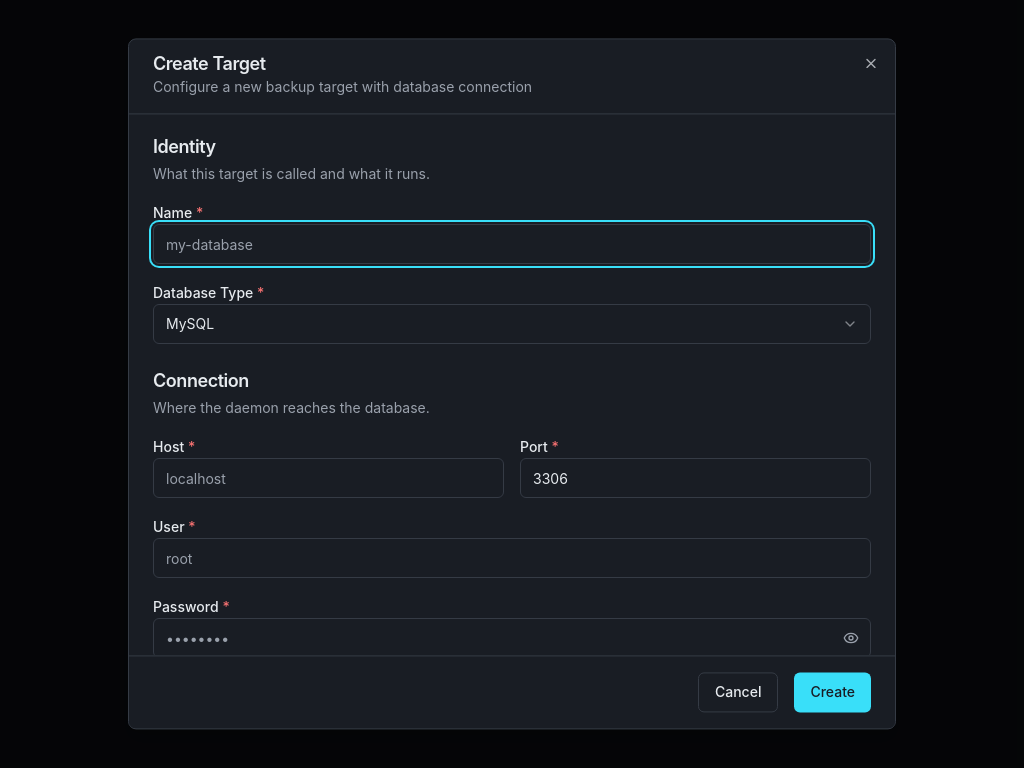
Test case: TargetForm › validation › clears a message as soon as the field is corrected
The width and height of the screenshot is (1024, 768).
Step 1. Click the button "Create" → coordinates (833, 693), box [794,673,871,713]
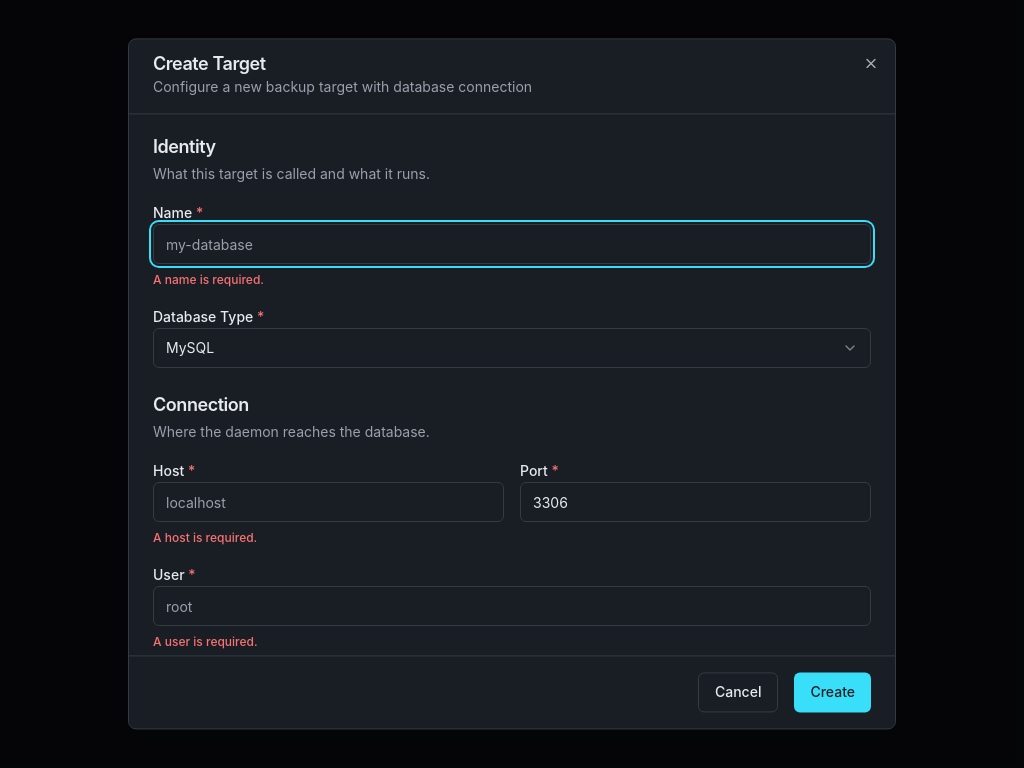
expect the text "A host is required." is shown: met, box [153,530,257,545]
Step 2. Type "db.internal" into the field labelled "Host *" → coordinates (328, 502), box [153,482,504,522]
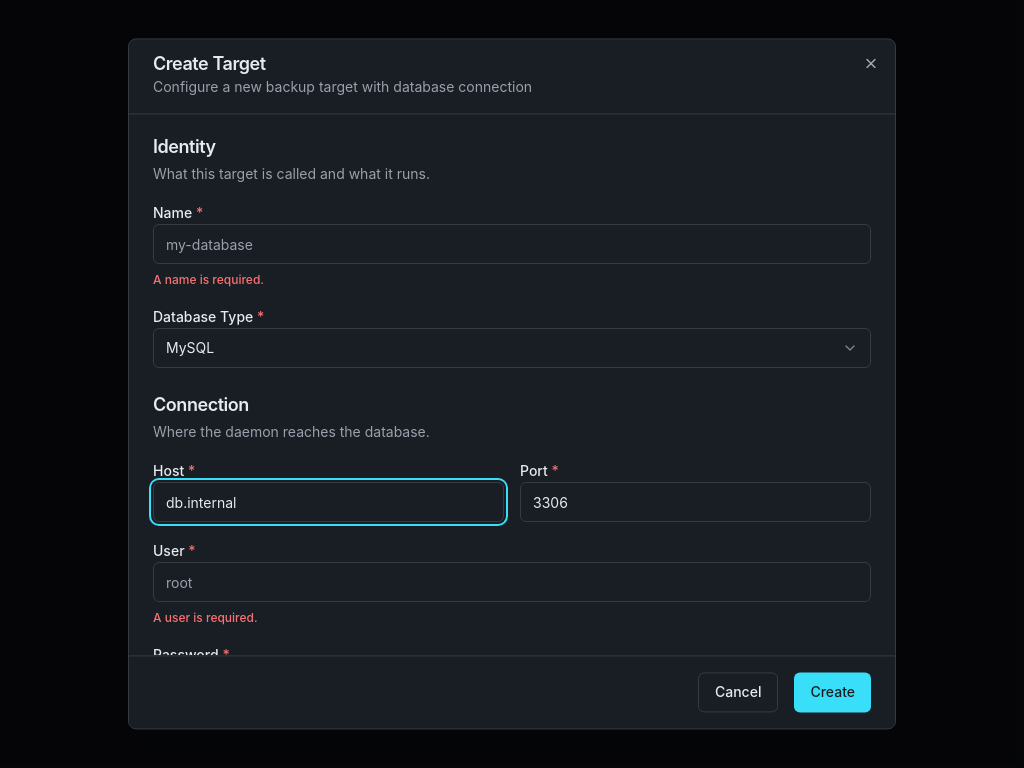
expect the text "A host is required." is gone: met
